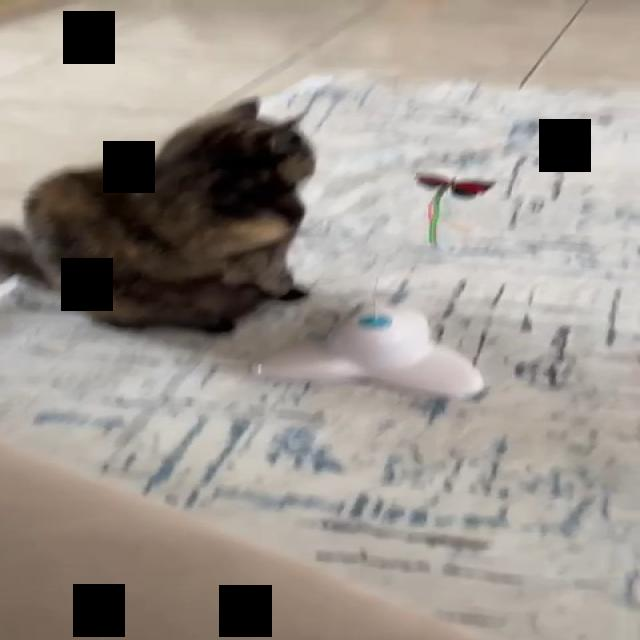authorized: (1, 94, 318, 333)
